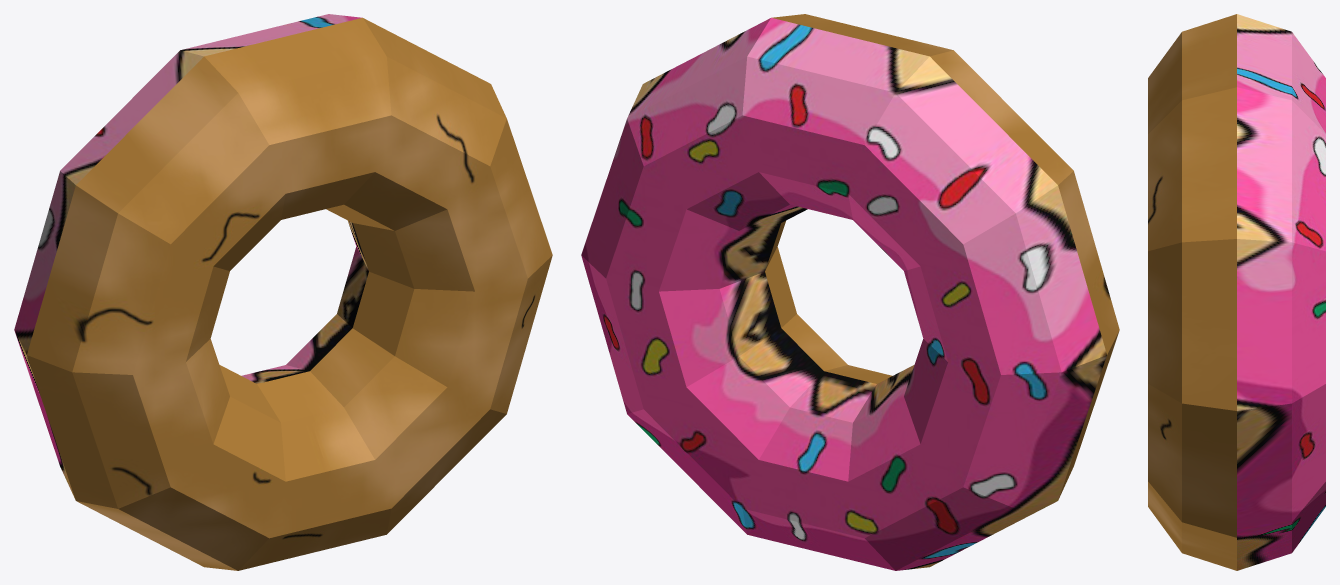
File: doughnut.fbx
3 renders of one model, left to right at view 1: azimuth 30°, elevation 25°; view 2: azimuth 150°, elevation 25°; view 3: azimuth 270°, elevation 25°, orthographic. The views are drawn at different scales.
Visible parts, largest first — view 1: Doughnut; view 2: Doughnut; view 3: Doughnut.
Boxes of the visible parts, x1,y1,x2,y2 form: Doughnut: [14, 14, 552, 570]; Doughnut: [581, 14, 1119, 570]; Doughnut: [1148, 14, 1325, 570].
Bounding box in the file's own units: 2.25 × 2.14 × 0.7124.
